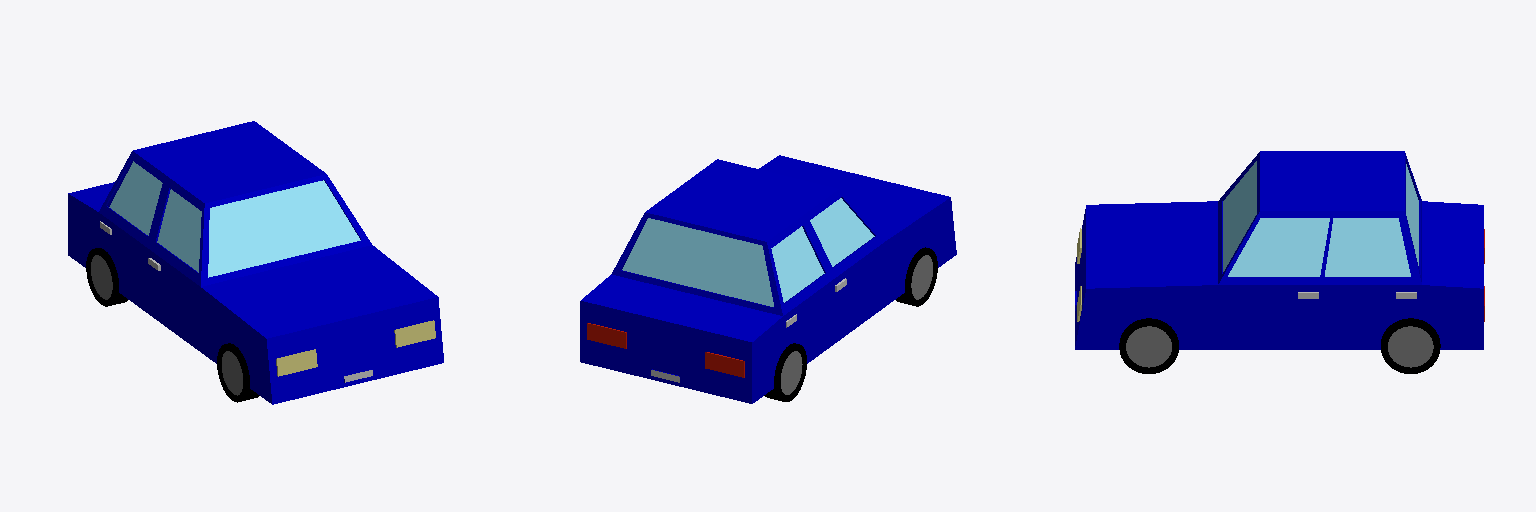
File: bluecar.obj
3 views of the same model, side by side, from view 1: azimuth 30°, elevation 25°; view 2: azimuth 150°, elevation 25°; view 3: azimuth 270°, elevation 25° (orthographic).
Visible parts, largest first — view 1: Cube.024_Cube, Cylinder.007, Cylinder.005_Cylinder.009; view 2: Cube.024_Cube, Cylinder.005_Cylinder.009, Cylinder.007; view 3: Cube.024_Cube, Cylinder.003, Cylinder.004_Cylinder.008.
Boxes of the visible parts, box(x1,y1,x2,y2) form: Cube.024_Cube: box(68, 121, 443, 404); Cylinder.007: box(217, 343, 259, 402); Cylinder.005_Cylinder.009: box(86, 248, 127, 306); Cube.024_Cube: box(580, 155, 956, 403); Cylinder.005_Cylinder.009: box(764, 343, 806, 401); Cylinder.007: box(896, 247, 937, 306); Cube.024_Cube: box(1075, 151, 1484, 349); Cylinder.003: box(1119, 318, 1178, 373); Cylinder.004_Cylinder.008: box(1381, 318, 1440, 373).
Bounding box in the file's own units: 0.2311 × 0.1842 × 0.4592.